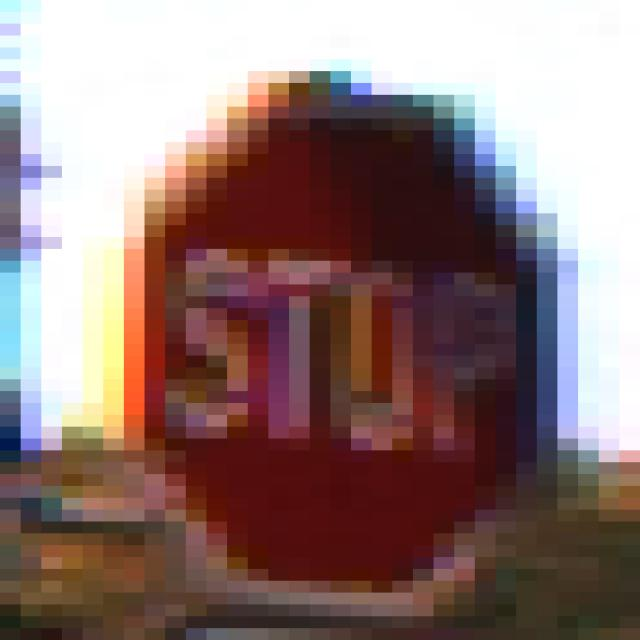STOP: (104, 60, 538, 582)
